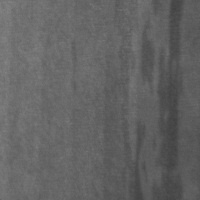inclusion: (137, 1, 185, 199), (126, 117, 150, 199), (65, 36, 83, 94)
